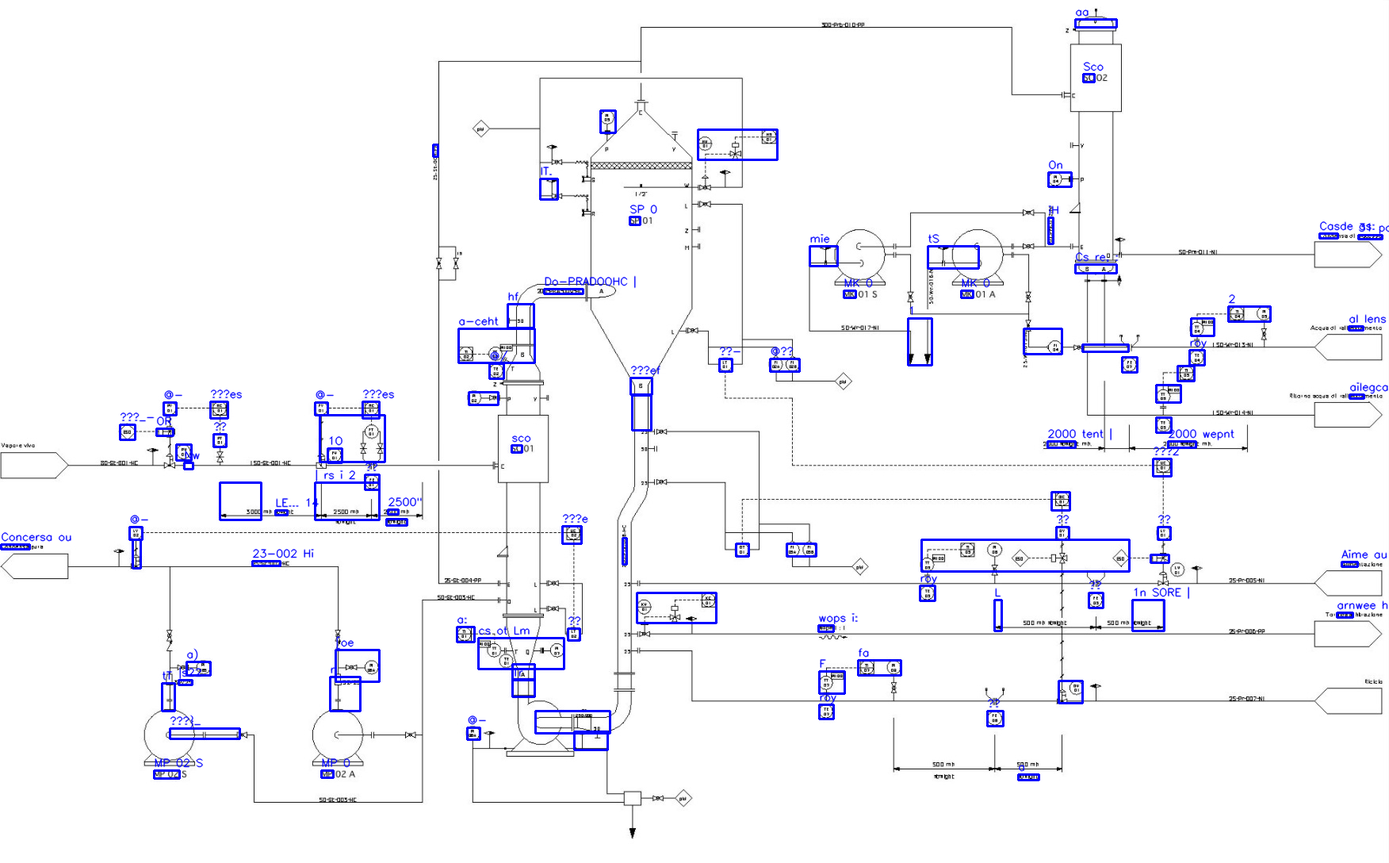Conexão: (1118, 332, 1141, 354), (984, 685, 1005, 707), (1086, 567, 1107, 589), (369, 460, 376, 471)
Instrumento: (767, 355, 785, 373), (1228, 305, 1246, 323), (1154, 524, 1173, 541), (565, 524, 582, 542), (985, 541, 1003, 558), (784, 355, 801, 373), (1188, 320, 1205, 338), (363, 659, 380, 676), (1155, 457, 1172, 474), (195, 658, 211, 676), (465, 724, 481, 742), (696, 136, 714, 152), (859, 658, 875, 676), (785, 540, 801, 558), (1178, 365, 1196, 381), (211, 400, 228, 416), (457, 625, 473, 642), (498, 652, 514, 669), (886, 659, 902, 676), (986, 711, 1003, 727), (801, 541, 817, 558), (919, 585, 936, 601), (919, 557, 936, 573), (959, 542, 976, 558), (212, 432, 228, 448), (486, 642, 502, 658), (565, 626, 581, 642), (466, 389, 482, 405), (458, 346, 474, 362), (762, 128, 778, 144), (636, 599, 652, 615), (818, 675, 834, 691), (1047, 339, 1063, 355), (1156, 416, 1172, 432), (312, 401, 329, 416), (1054, 491, 1071, 506), (1188, 350, 1205, 365), (1156, 388, 1171, 405), (162, 401, 178, 416), (364, 401, 380, 416), (549, 642, 564, 658), (488, 346, 503, 362), (488, 363, 504, 378), (599, 109, 614, 125), (701, 593, 717, 608), (717, 357, 733, 372), (1256, 305, 1271, 321), (364, 424, 379, 439), (128, 525, 143, 540), (818, 704, 833, 719), (1047, 172, 1062, 187), (652, 793, 665, 803), (334, 629, 343, 642)
Outro: (949, 228, 1007, 288), (141, 708, 197, 769), (832, 228, 889, 287), (310, 708, 365, 768), (1010, 547, 1031, 567), (833, 371, 853, 392), (850, 557, 870, 577), (1112, 548, 1131, 568), (472, 119, 491, 138), (675, 788, 692, 807), (734, 542, 750, 558), (165, 673, 174, 687), (182, 461, 195, 470), (334, 672, 342, 686), (345, 663, 358, 671)
Válvula: (156, 424, 177, 439), (1150, 551, 1171, 566), (728, 141, 743, 161), (668, 604, 683, 624), (1050, 551, 1070, 566), (162, 452, 177, 470), (638, 620, 652, 639), (698, 175, 713, 192), (314, 452, 328, 470), (1055, 688, 1069, 706), (129, 553, 143, 570), (1157, 570, 1169, 589), (235, 730, 250, 740), (545, 578, 560, 588), (1021, 208, 1036, 218), (545, 604, 561, 613), (697, 200, 713, 209), (1071, 343, 1087, 352), (404, 730, 417, 741), (375, 441, 385, 455), (990, 563, 999, 578), (906, 290, 915, 305), (215, 450, 225, 463), (434, 256, 443, 270), (488, 393, 502, 402), (1024, 290, 1033, 304), (452, 256, 460, 271), (687, 325, 699, 335), (1260, 327, 1268, 342), (359, 442, 368, 455), (1022, 241, 1035, 250), (166, 628, 174, 642), (550, 192, 564, 200), (550, 158, 564, 166), (1024, 318, 1031, 333), (176, 663, 189, 671), (655, 428, 668, 436), (890, 681, 897, 695), (656, 478, 668, 486)
